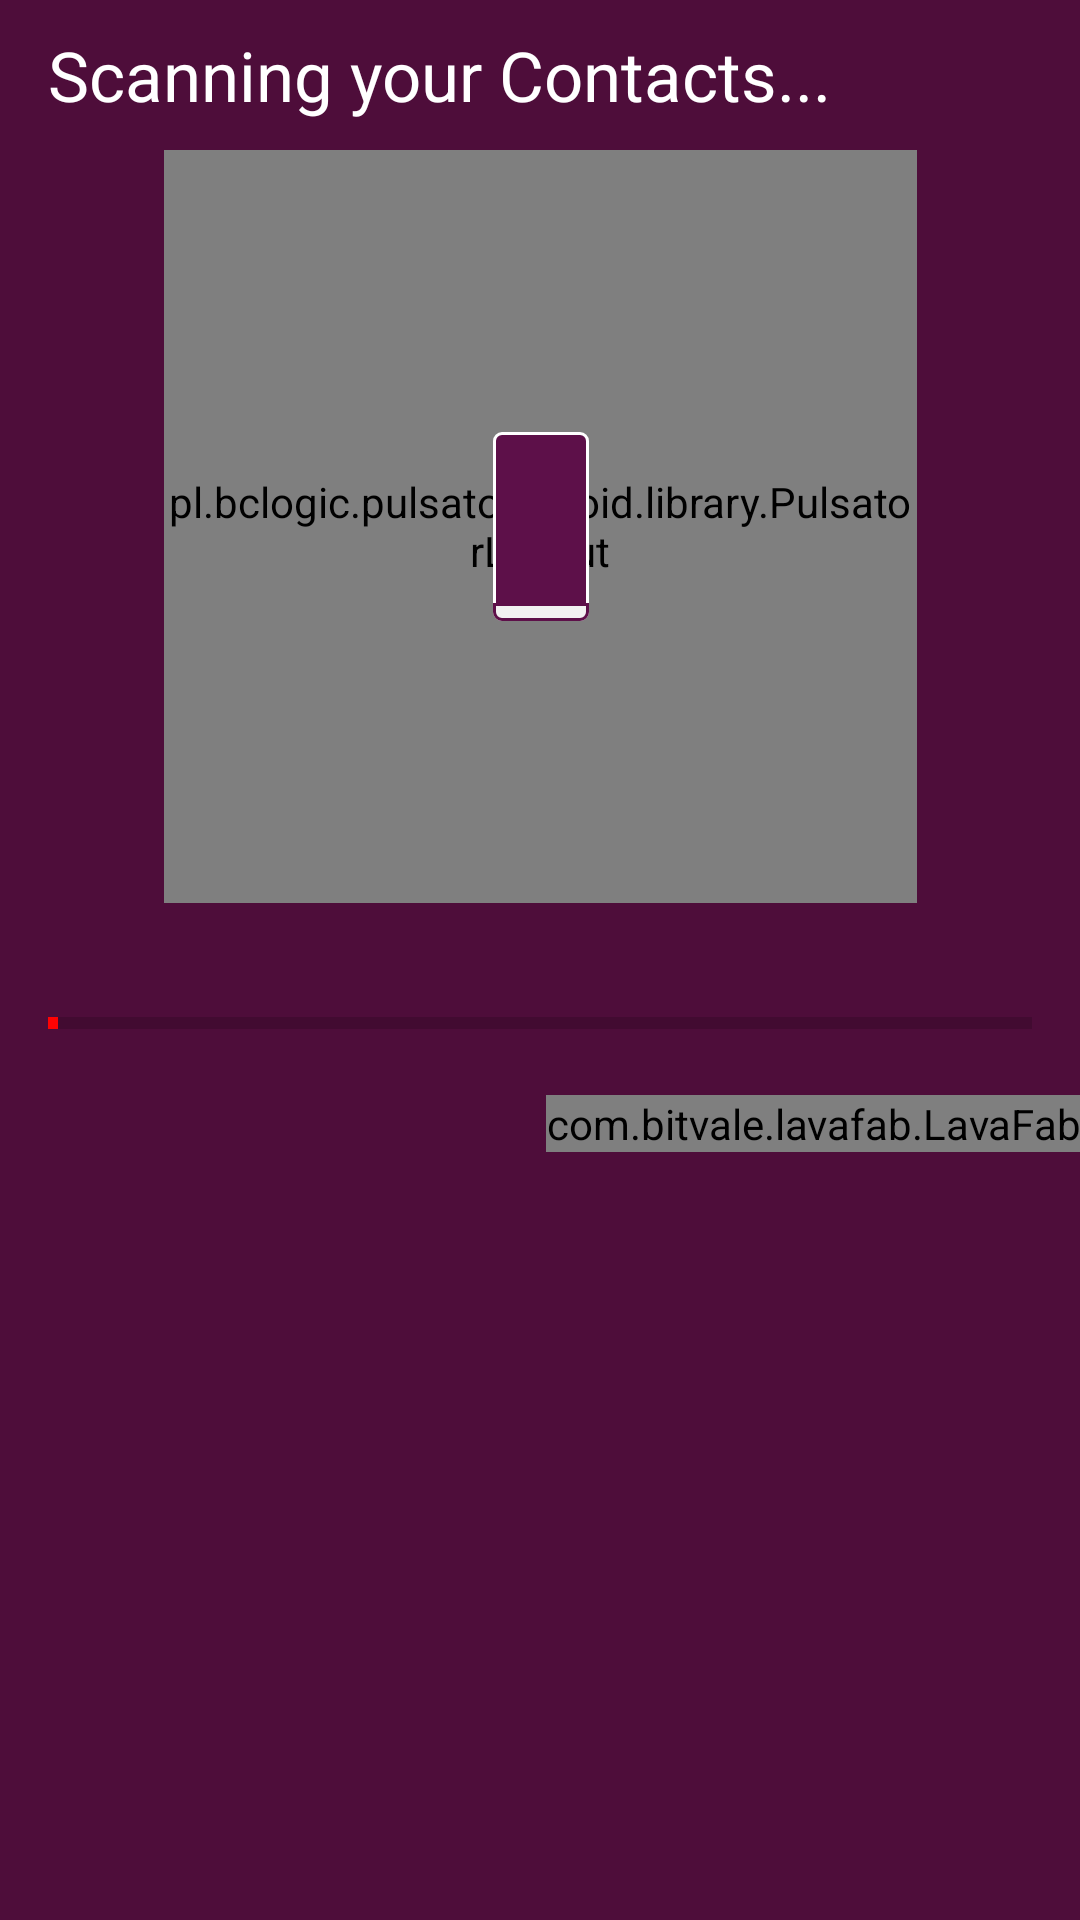

Named icons in this screenshot (1080px×1920px) and their bounding boxes, (x1, y1, x2, y2):
phone: (493, 432, 589, 621)
